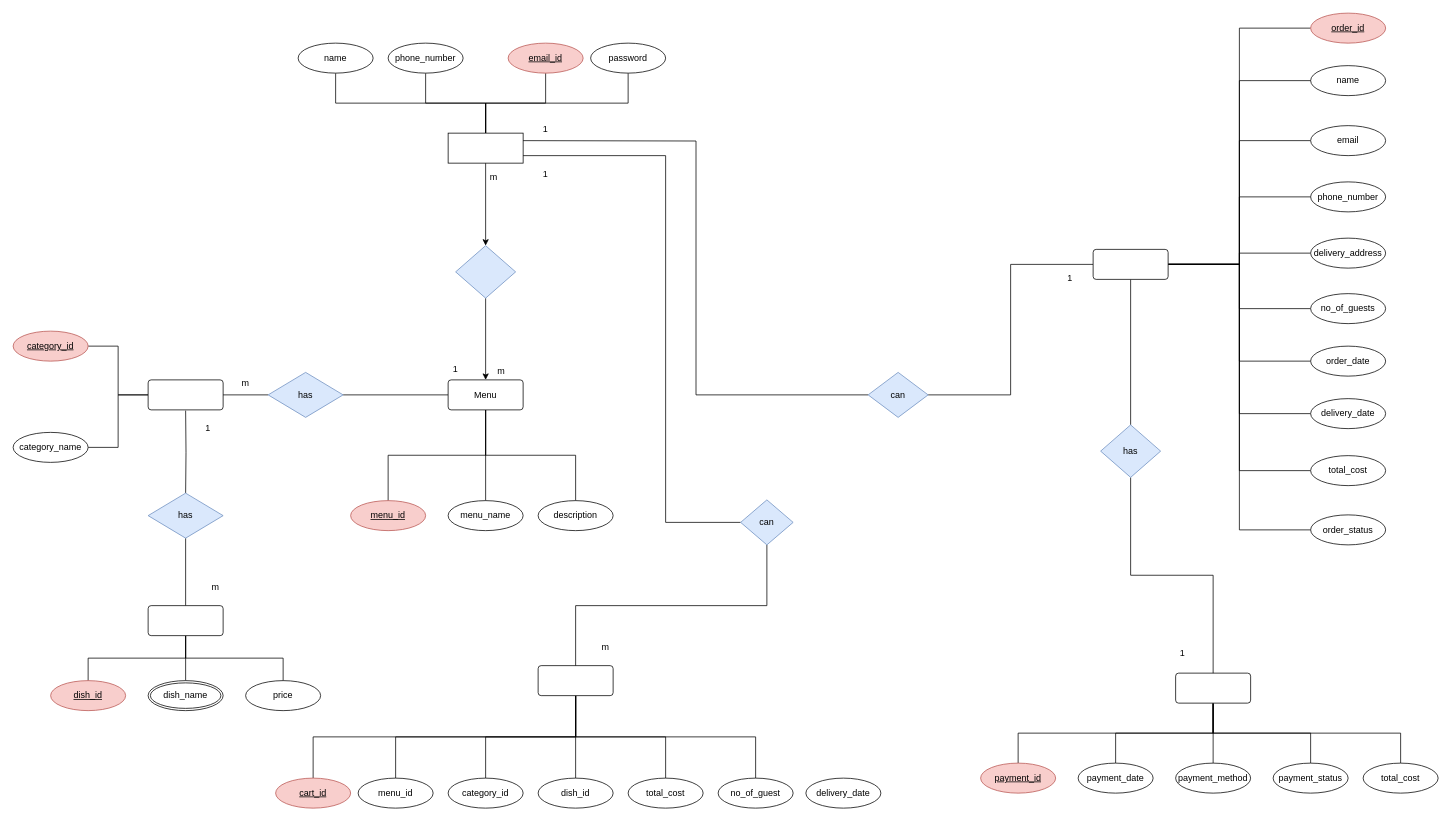
Image size: 1451x821. Some labels were removed from this diagram. The centre of each missing label's shape, as x and y in pixels:
"Add_to_cart" goes at [575,680].
"Category" goes at [185,394].
"Dish" goes at [185,620].
"Order" goes at [1130,264].
"payment" goes at [1213,687].
"see" goes at [485,271].
"User" goes at [485,147].
